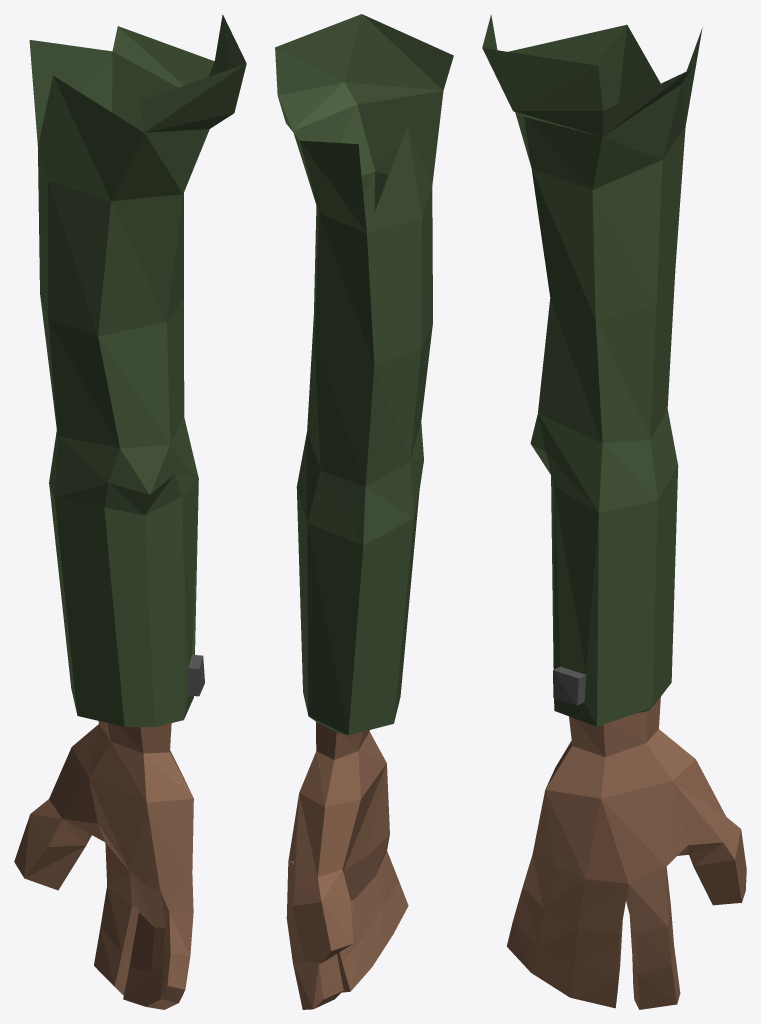
The model's file is ArmR.obj.
3 views of the same model, side by side, from view 1: azimuth 30°, elevation 25°; view 2: azimuth 150°, elevation 25°; view 3: azimuth 270°, elevation 25° (orthographic). The views are drawn at different scales.
Size of the model in its own units: 0.1493 by 0.8464 by 0.2073.
Materials: 1 (1 with a texture image).
